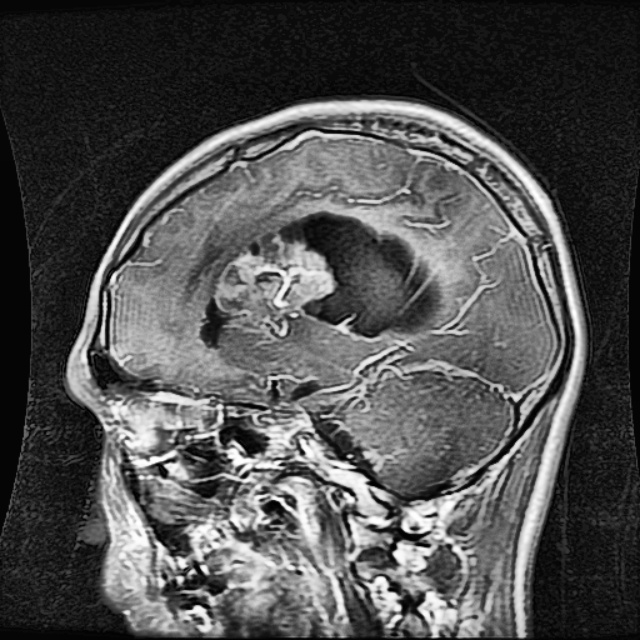Meningioma: (207, 209, 440, 350)
